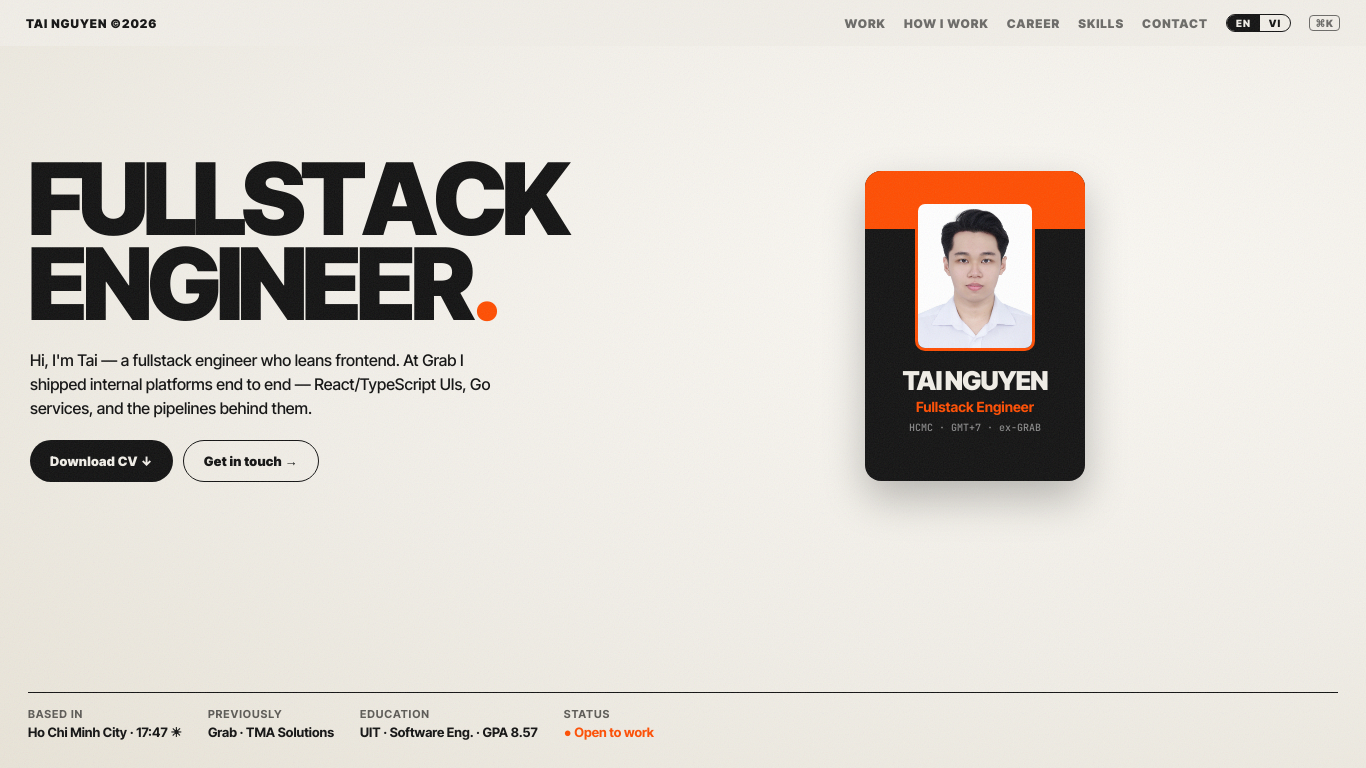
Test: switch language command
Type keys "{Control>}k{/Control}"
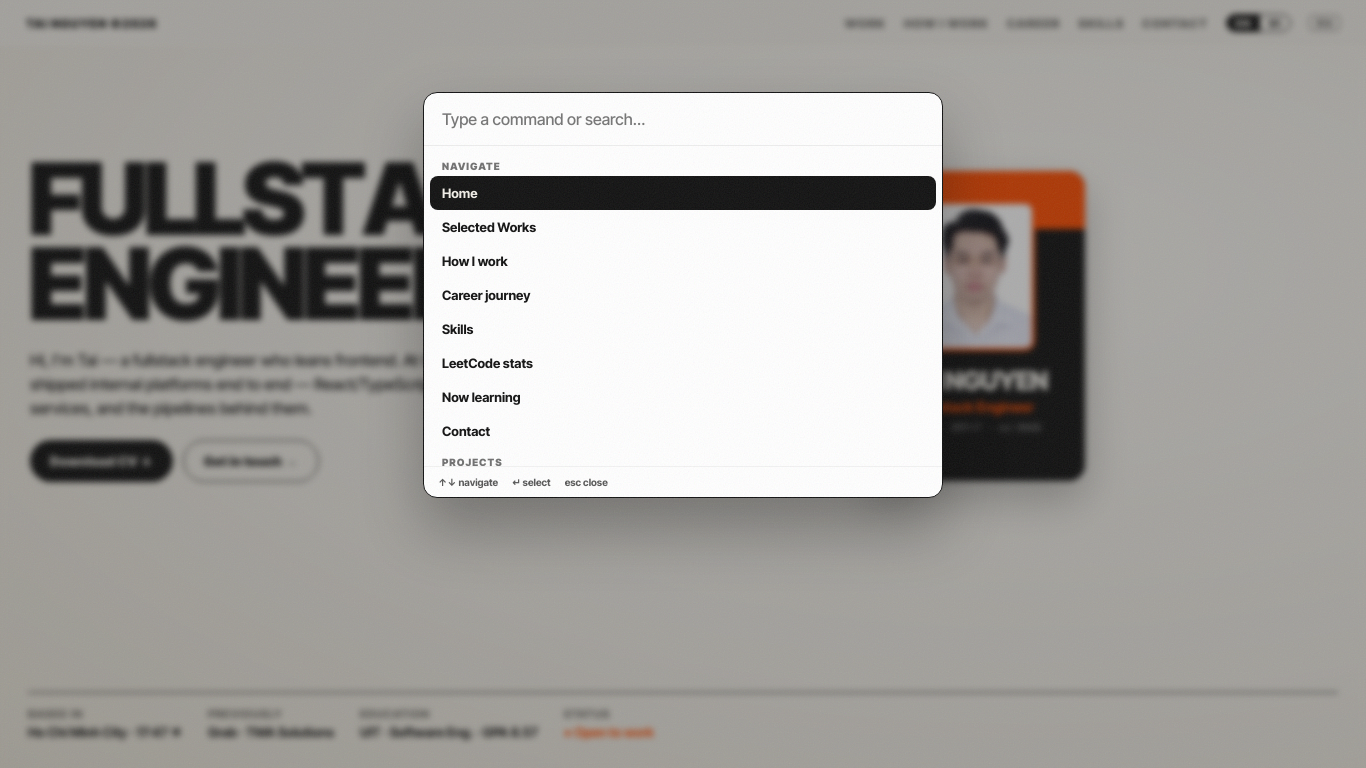
Type "viet" into the dropdown at (683, 120), box [424, 93, 942, 146]
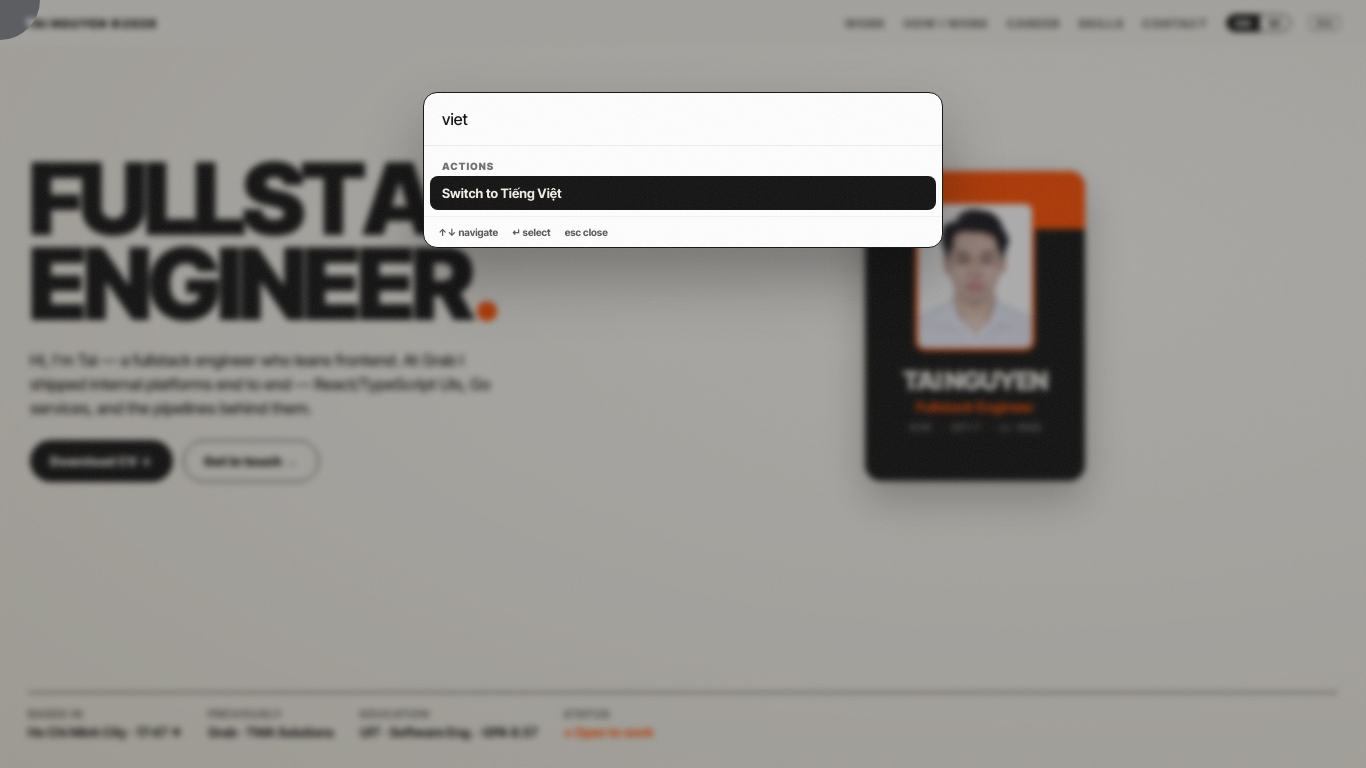
Press Enter
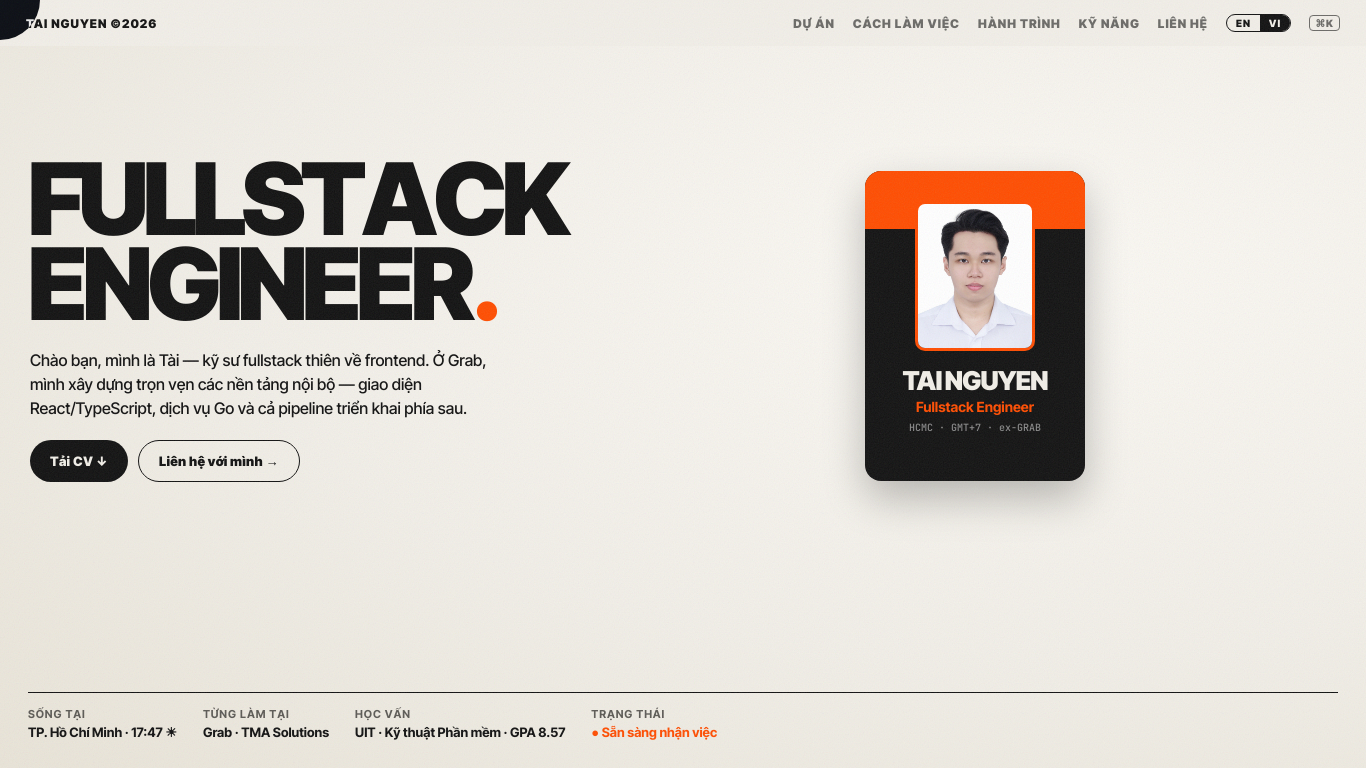
Check: the button "Liên hệ" is shown, box [1158, 16, 1208, 30]
